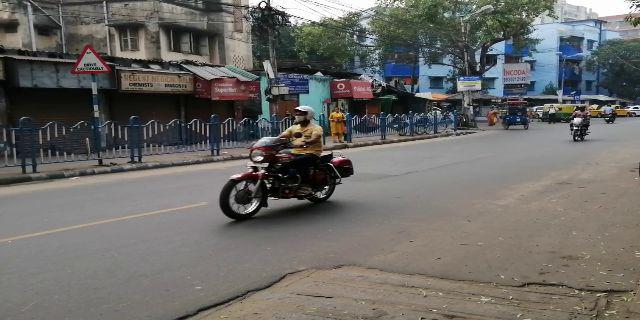Motorbike: (216, 108, 352, 220), (570, 104, 590, 142)
